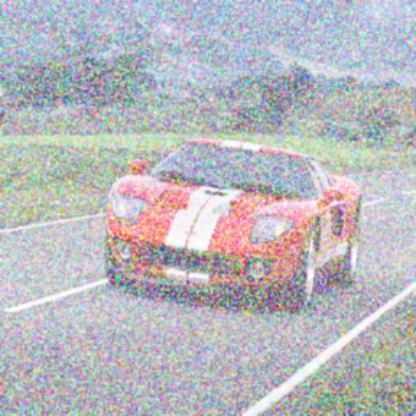Vehicle: (106, 136, 362, 314)
